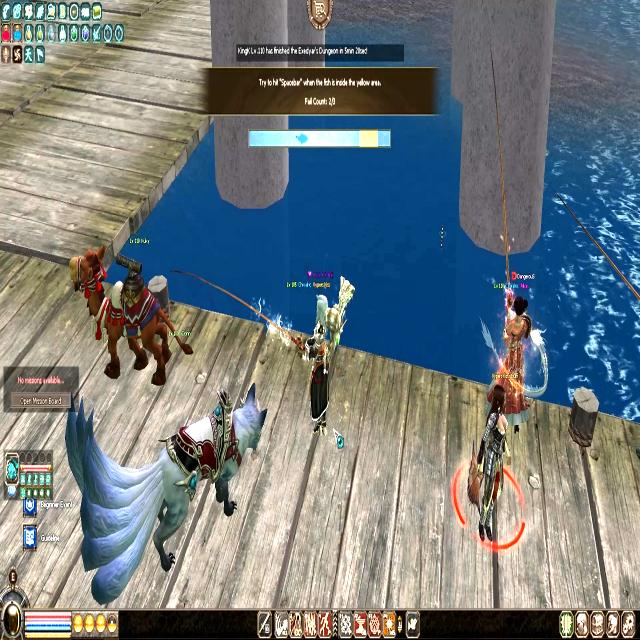fishes: (295, 130, 309, 146)
